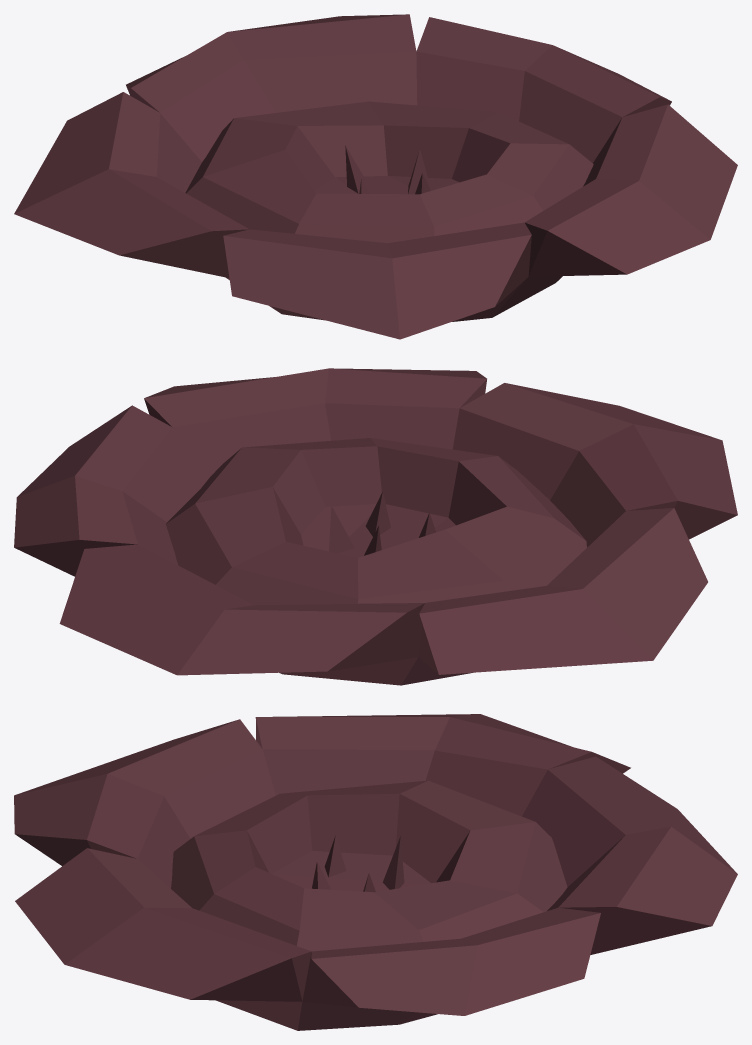
File: SM_Flower_Prehistoric_Big.fbx
3 renders of one model, top to bottom at view 1: azimuth 30°, elevation 25°; view 2: azimuth 150°, elevation 25°; view 3: azimuth 270°, elevation 25°, orthographic. The views are drawn at different scales.
Visible parts, largest first — view 1: SM_Flower_Prehistoric_Big; view 2: SM_Flower_Prehistoric_Big; view 3: SM_Flower_Prehistoric_Big.
Boxes of the visible parts, box(x1,y1,x2,y2) form: SM_Flower_Prehistoric_Big: box(14, 14, 737, 339); SM_Flower_Prehistoric_Big: box(14, 368, 737, 685); SM_Flower_Prehistoric_Big: box(14, 714, 737, 1030).
Bounding box in the file's own units: 1.54 × 0.2867 × 1.55.
